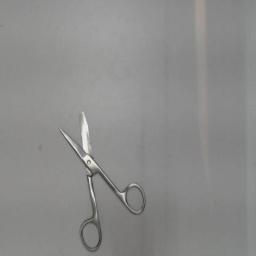Dressing Scissors: (56, 104, 152, 254)
